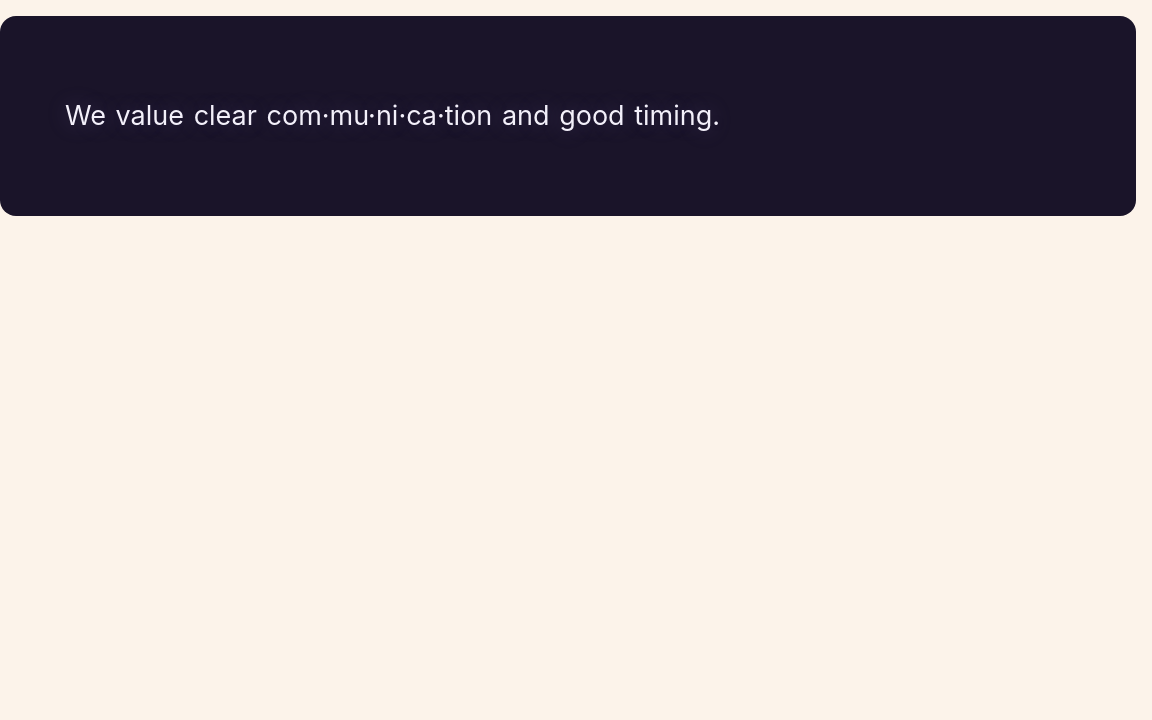
it: RehearsalStage -- syllable breaks setting › does not change the word passed to the pronunciation popover or its aria-label
Click the button with aria-label "communication: show pronunciation help". click: (383, 116)
box: x1=266 y1=99 x2=501 y2=132
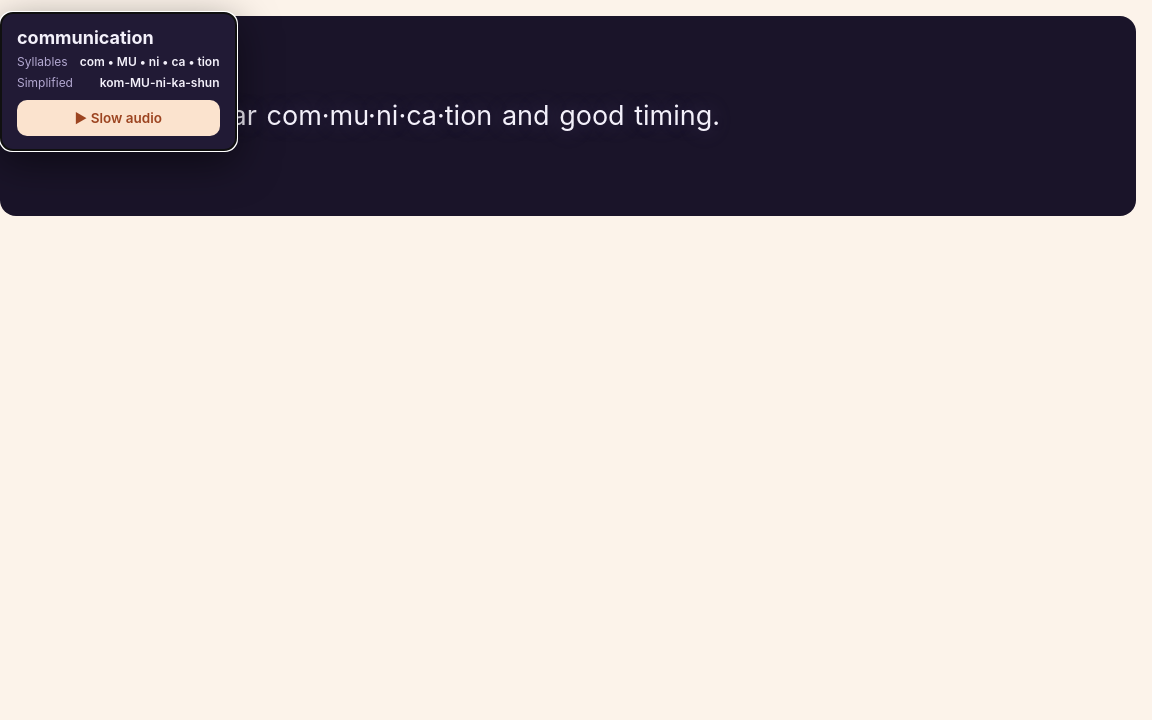
Expected: the text "communication" is shown, x1=17 y1=27 x2=154 y2=48
